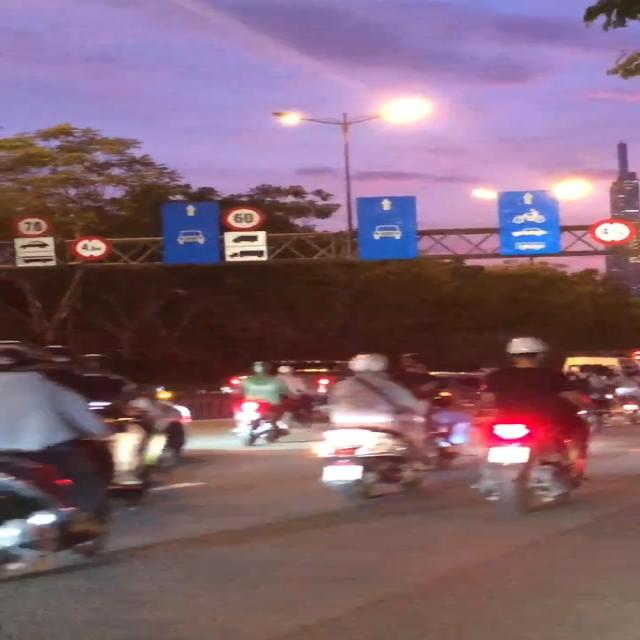Bien bao han che chieu cao: (70, 235, 110, 262)
Bien bao toc do toi da cho phep: (218, 205, 272, 232), (10, 214, 52, 238)
